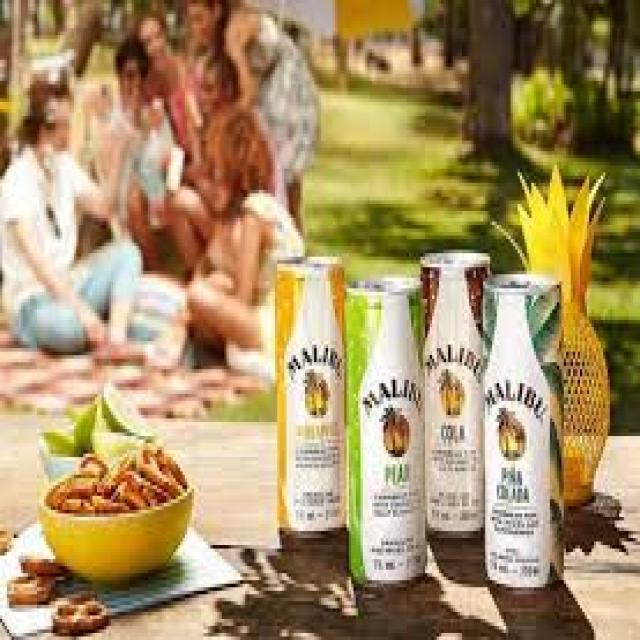Cans: (480, 268, 570, 594), (342, 274, 430, 591), (414, 239, 494, 542), (270, 246, 349, 542)
